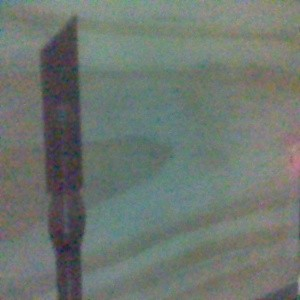cutter: (38, 12, 86, 300)
